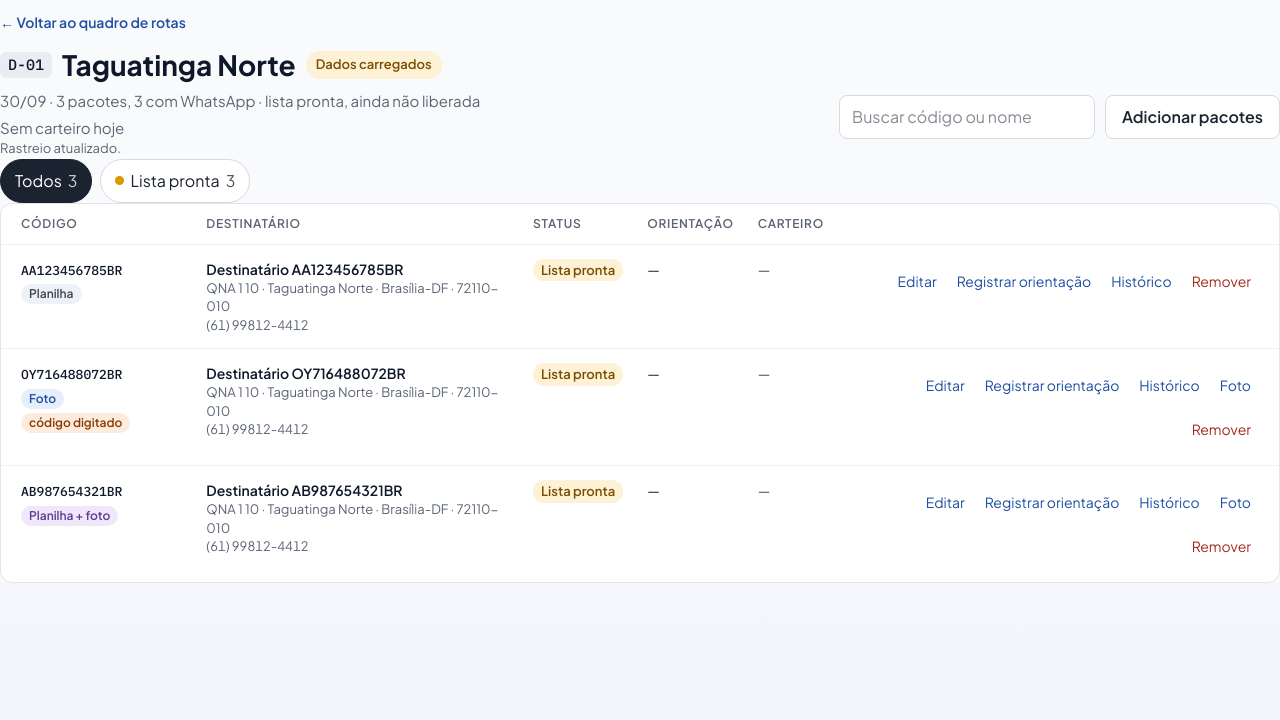
Test case: Extensões do supervisor (captura, task_06) › UT-122 foto 410 → "Foto excluída em 30/10 (prazo de retenção)"
Click the button with aria-label "Foto do rótulo de AB987654321BR".
click(1235, 502)  # box [1212, 480, 1259, 524]
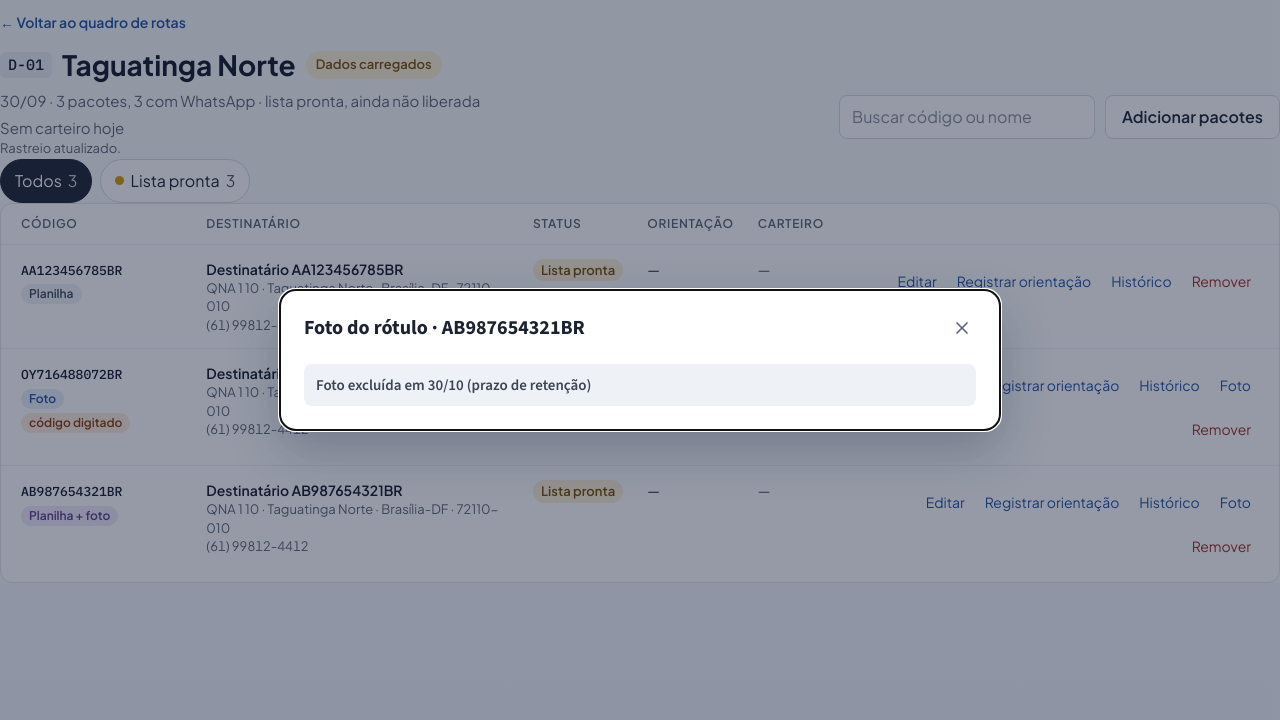
Now the text "Foto excluída em 30/10 (prazo de retenção)" is shown, box [304, 364, 976, 406]
